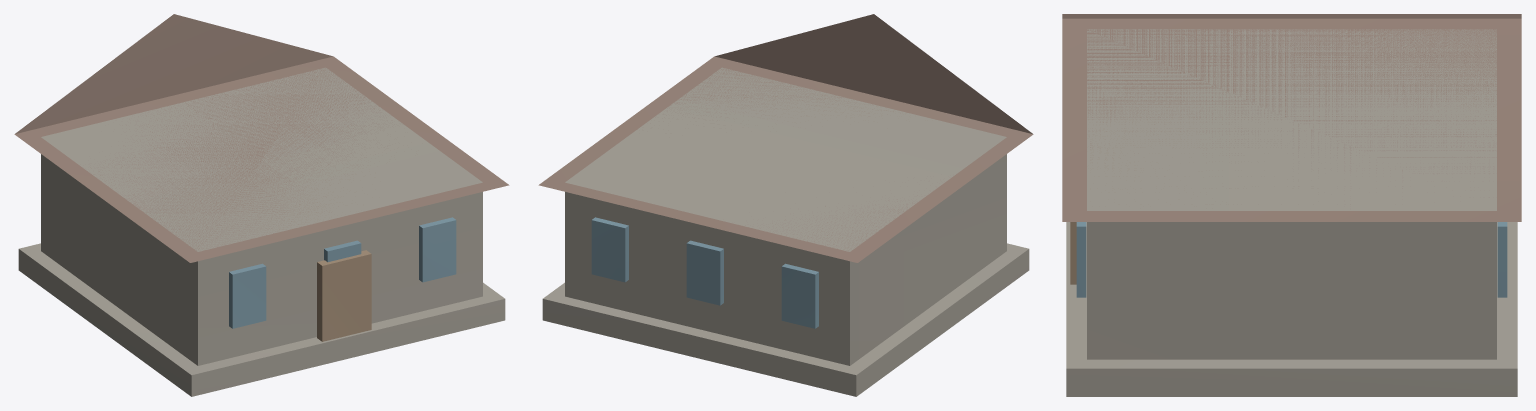
The model's file is townhouse-04.glb.
3 renders of one model, left to right at view 1: azimuth 30°, elevation 25°; view 2: azimuth 150°, elevation 25°; view 3: azimuth 270°, elevation 25°, orthographic. The views are drawn at different scales.
Visible parts, largest first — view 1: world; view 2: world; view 3: world.
Boxes of the visible parts, bbox=[...] form: world: bbox=[14, 14, 509, 396]; world: bbox=[538, 14, 1033, 396]; world: bbox=[1062, 14, 1521, 396].
Bounding box in the file's own units: 1.23 × 0.8 × 1.18.
